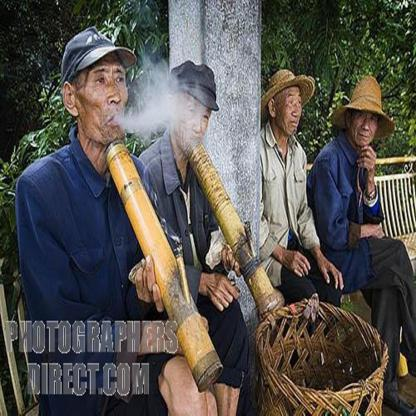face: (83, 41, 129, 135), (180, 81, 208, 153), (351, 95, 378, 145), (280, 79, 302, 132)
